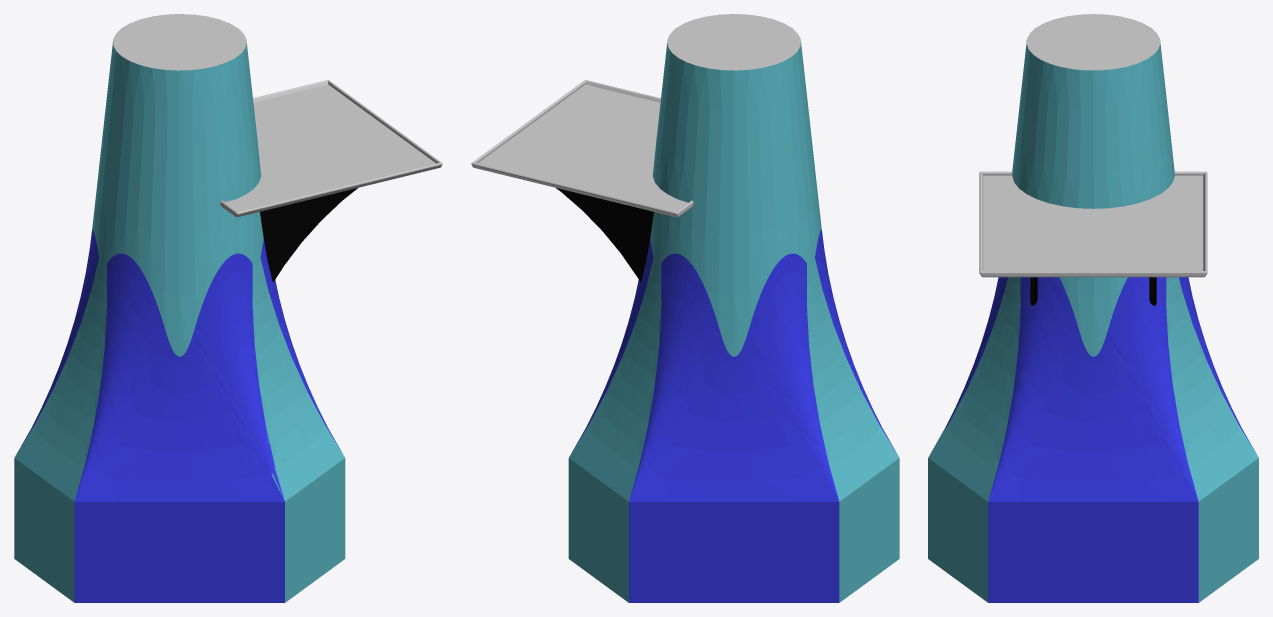
The model's file is lower_body.dae.
3 renders of one model, left to right at view 1: azimuth 30°, elevation 25°; view 2: azimuth 150°, elevation 25°; view 3: azimuth 270°, elevation 25°, orthographic.
Parts seen in each view (by area): view 1: lower_body; view 2: lower_body; view 3: lower_body.
Part boxes in pixels (x1,y1,x2,y2): lower_body: [14, 14, 442, 602]; lower_body: [471, 14, 899, 602]; lower_body: [928, 14, 1258, 602].
Bounding box in the file's own units: 0.795 × 0.6668 × 1.12.
